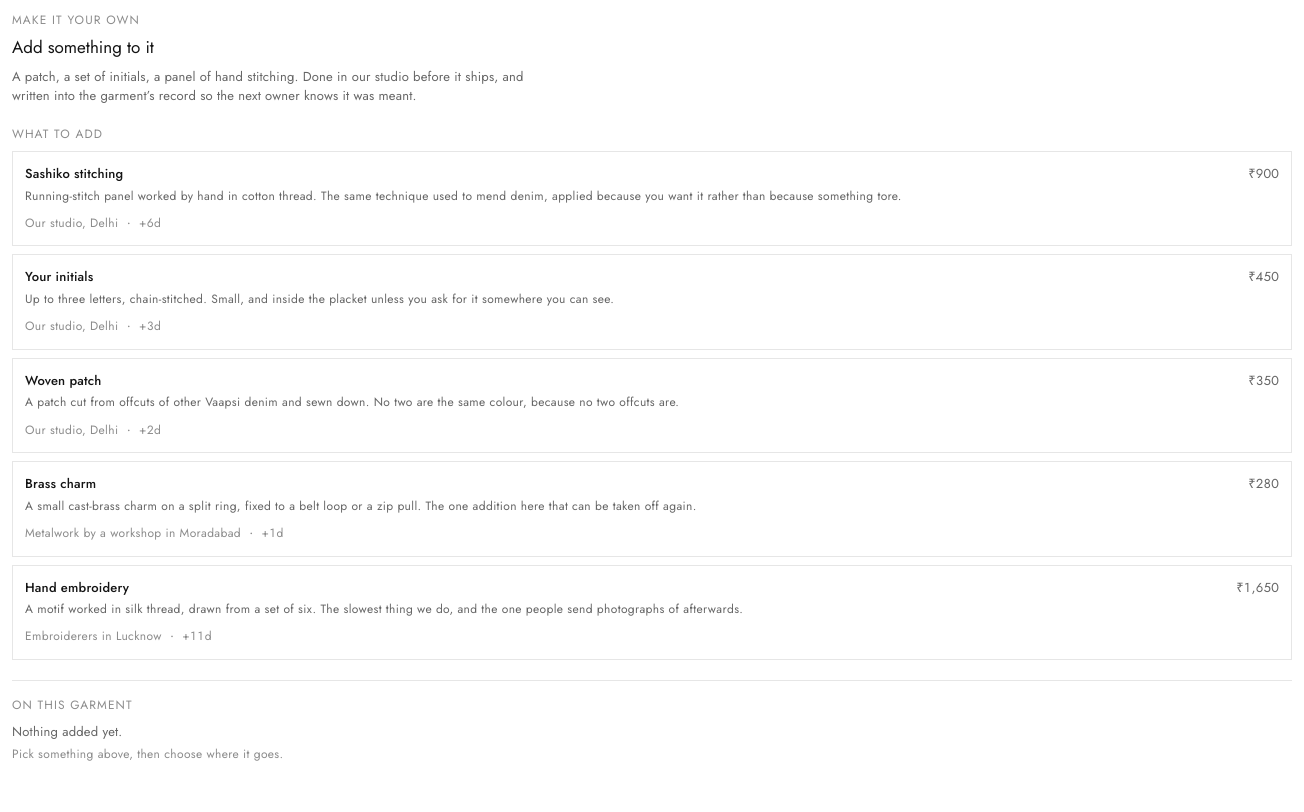
Test: Customiser › asks where it goes only once something is chosen
The width and height of the screenshot is (1304, 812).
Expected: the button "Left hip" is not shown
Click the button "Sashiko stitching" at (652, 199), box [12, 151, 1292, 246]
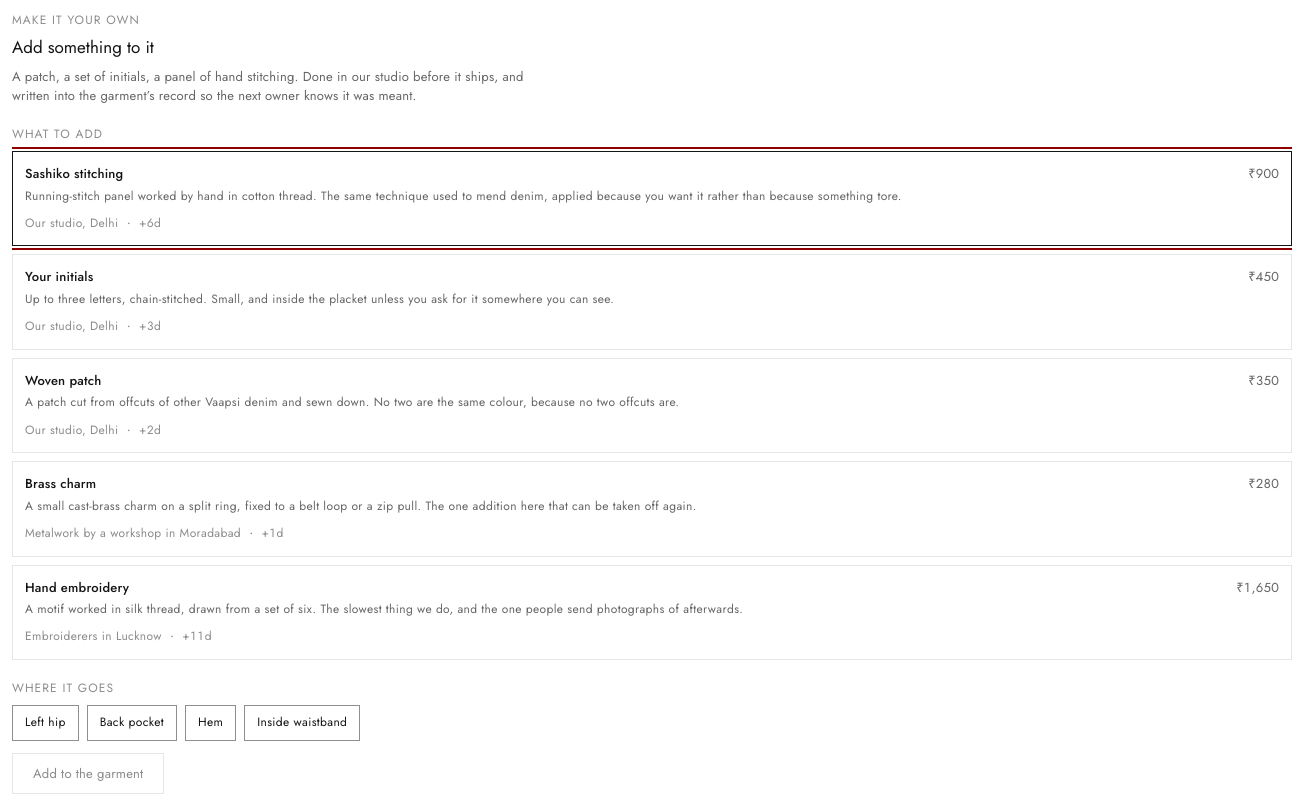
Result: the button "Left hip" is shown at [12, 705, 79, 741]
